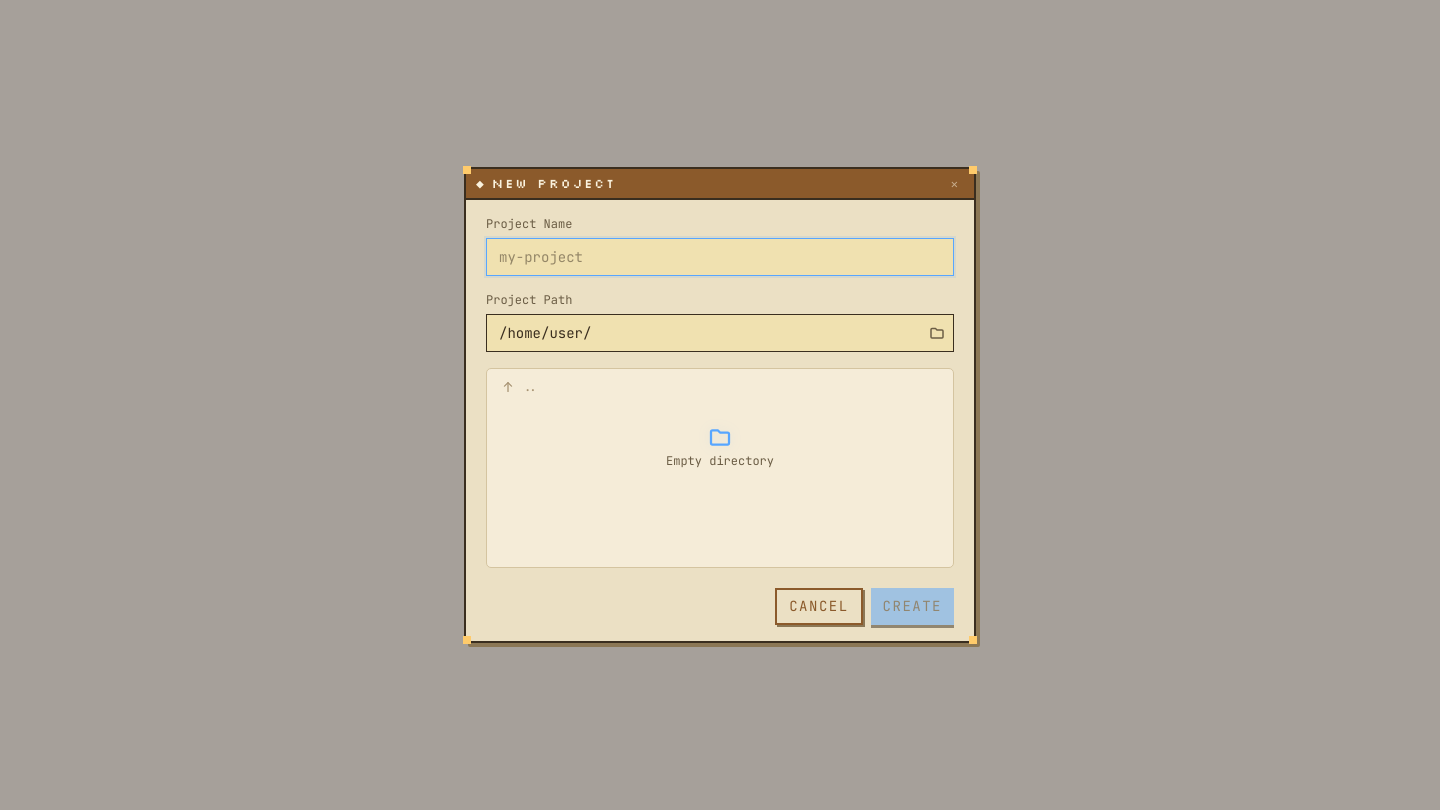
Scenario: CreateProjectModal native folder picker › fills the path returned by the native picker
Expected: the field with placeholder "/home/user" holds "/home/user/", [486,314,954,352]
Click the button with test id "pick-directory" at [937, 333], box [925,321,949,345]
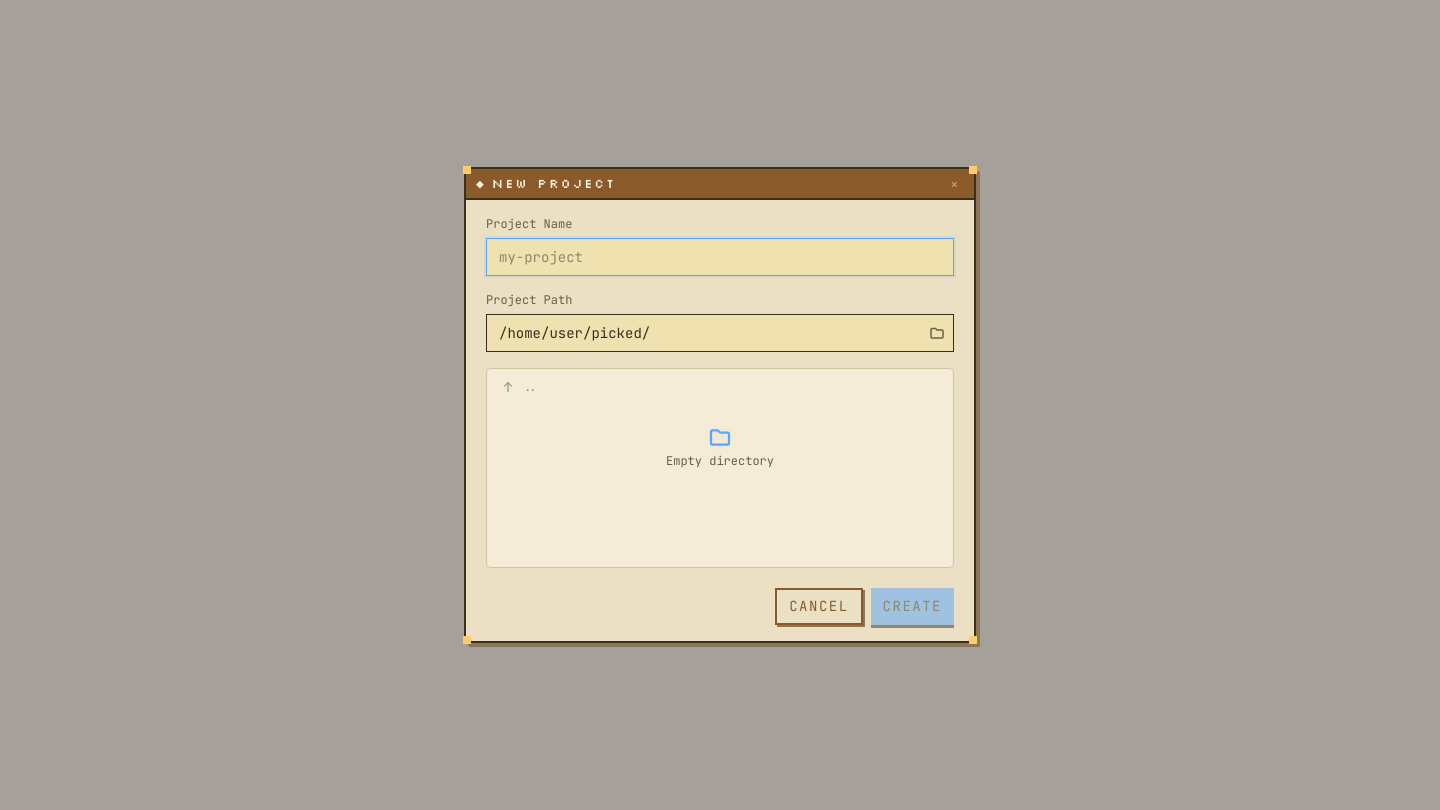
Expected: the field with placeholder "/home/user" holds "/home/user/picked/", [486,314,954,352]
